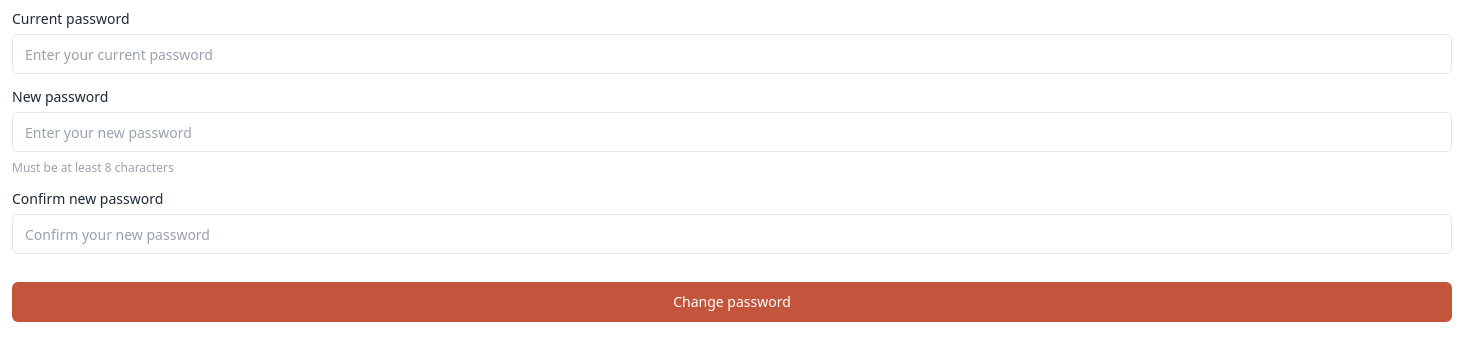
Test: ChangePasswordForm › shows validation error for mismatched passwords
Type "oldpass123" into the password field labelled "Current password" at (732, 54), box [12,34,1452,74]
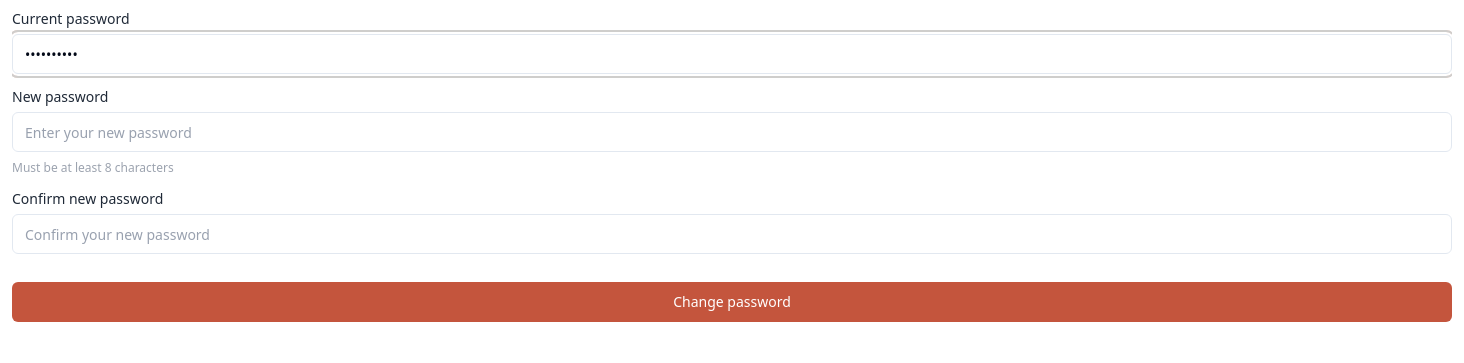
Type "newpassword123" into the password field labelled "New password" at (732, 132), box [12,112,1452,152]
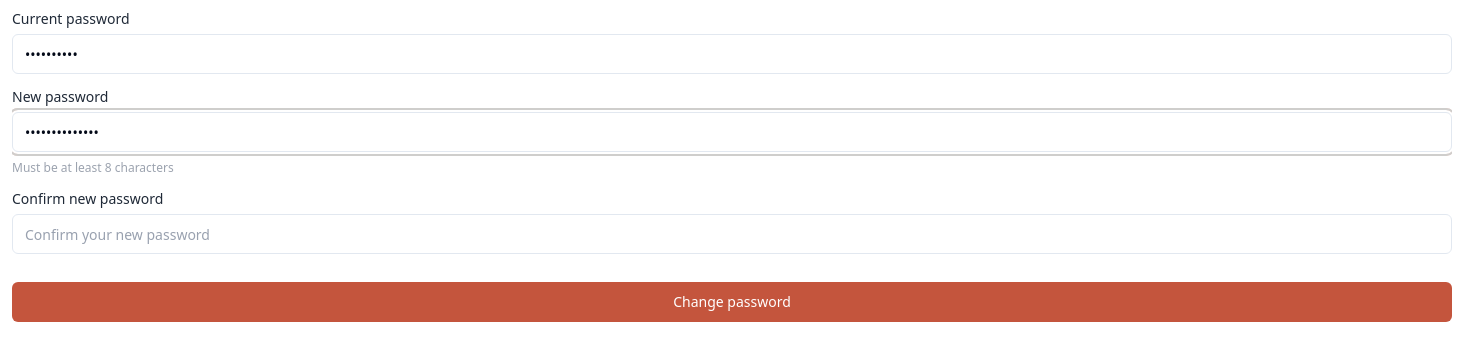
Type "differentpassword" into the password field labelled "Confirm new password" at (732, 234), box [12,214,1452,254]
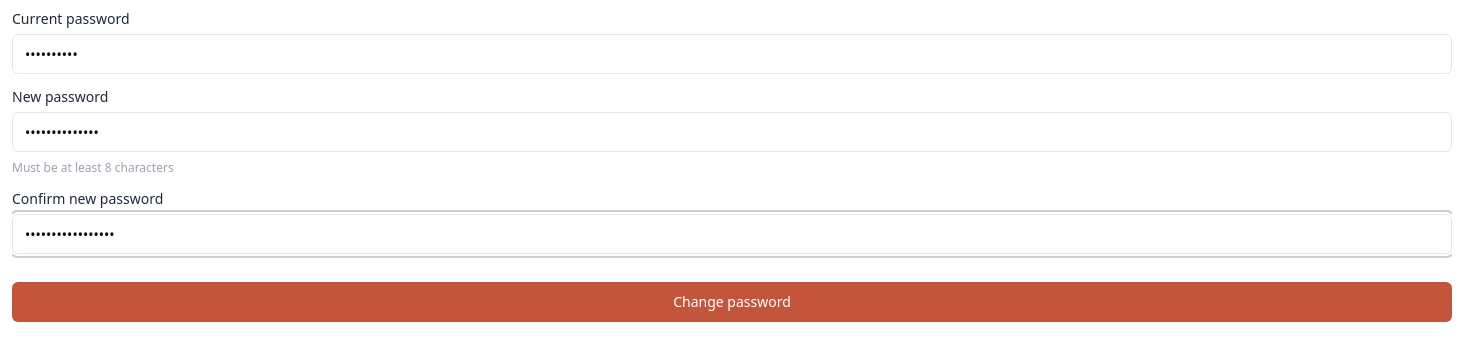
Click the button "Change password" at (732, 302), box [12,282,1452,322]
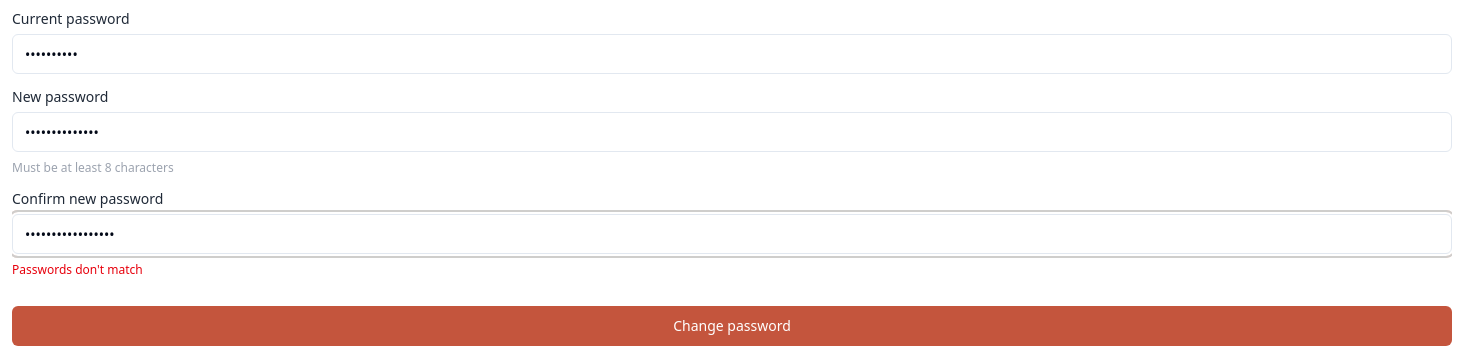
Now the text "Passwords don't match" is shown, box [12,261,143,278]
